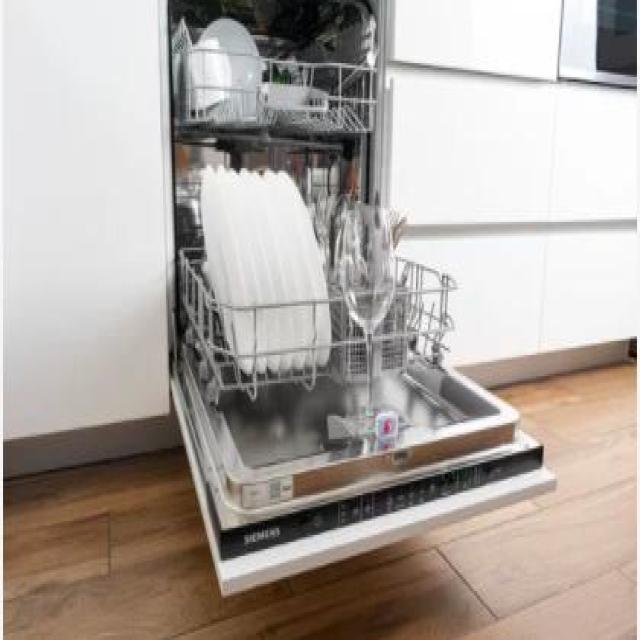dishwasher: (157, 0, 561, 605)
